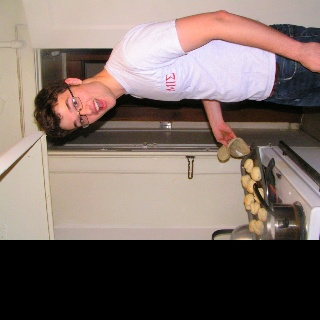without_mask: (53, 81, 116, 129)
